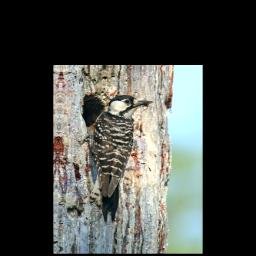Woodpecker: (73, 93, 154, 228)
